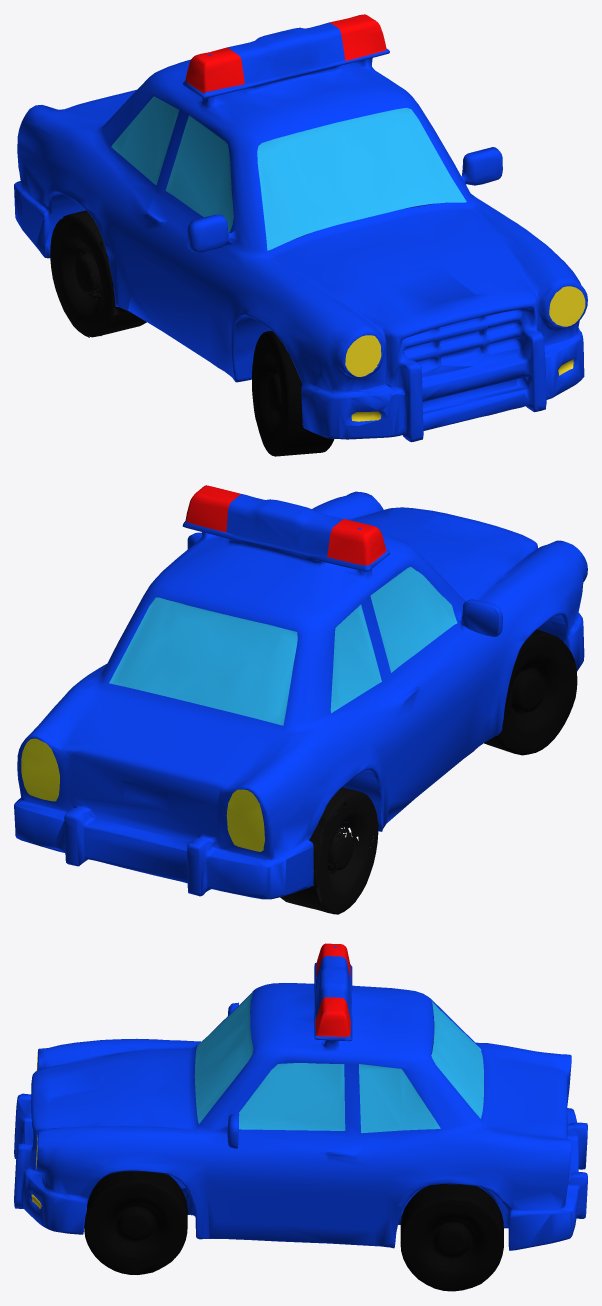
The model's file is police car animated.glb.
3 views of the same model, one above another, from view 1: azimuth 30°, elevation 25°; view 2: azimuth 150°, elevation 25°; view 3: azimuth 270°, elevation 25° (orthographic). The views are drawn at different scales.
Visible parts, largest first — view 1: Body, Body_Body_0.001, Body_Body_0.002, windows, Wheel_RR, Wheel_FR, Sirens_in-between_thing, Sirens, Body_Body_0.007, Headlights, Body_Body_0.008; view 2: Body, Body_Body_0.001, windows, Body_Body_0.002, Wheel_FR, Wheel_RR, Sirens_in-between_thing, Sirens, model010, model011, Body_Body_0.008; view 3: Body, windows, Body_Body_0.002, Wheel_RL, Wheel_FL, Sirens, Sirens_in-between_thing.
Part boxes in pixels (<box>): Body: <box>14,20,587,442</box>; Body_Body_0.001: <box>17,79,348,438</box>; Body_Body_0.002: <box>51,196,581,343</box>; windows: <box>111,83,466,250</box>; Wheel_RR: <box>50,210,146,337</box>; Wheel_FR: <box>252,331,334,456</box>; Sirens_in-between_thing: <box>227,22,344,83</box>; Sirens: <box>185,14,386,93</box>; Body_Body_0.007: <box>338,366,516,439</box>; Headlights: <box>345,286,585,376</box>; Body_Body_0.008: <box>21,196,45,250</box>; Body: <box>14,485,581,899</box>; Body_Body_0.001: <box>255,551,587,861</box>; windows: <box>109,567,457,725</box>; Body_Body_0.002: <box>263,491,581,848</box>; Wheel_FR: <box>484,629,577,755</box>; Wheel_RR: <box>280,787,378,914</box>; Sirens_in-between_thing: <box>226,494,343,556</box>; Sirens: <box>185,485,386,565</box>; model010: <box>21,738,59,801</box>; model011: <box>226,789,264,851</box>; Body_Body_0.008: <box>283,847,313,896</box>; Body: <box>14,946,587,1250</box>; windows: <box>194,991,483,1133</box>; Body_Body_0.002: <box>32,1038,436,1145</box>; Wheel_RL: <box>400,1184,503,1291</box>; Wheel_FL: <box>84,1171,187,1274</box>; Sirens: <box>315,943,350,1036</box>; Sirens_in-between_thing: <box>315,956,350,1018</box>.
Size of the model in its own units: 1.57 by 1.53 by 3.02.
